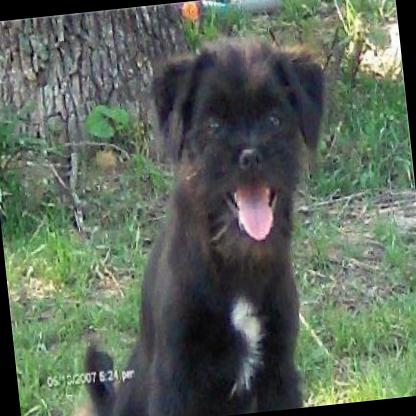schipperke: (45, 26, 360, 416)
